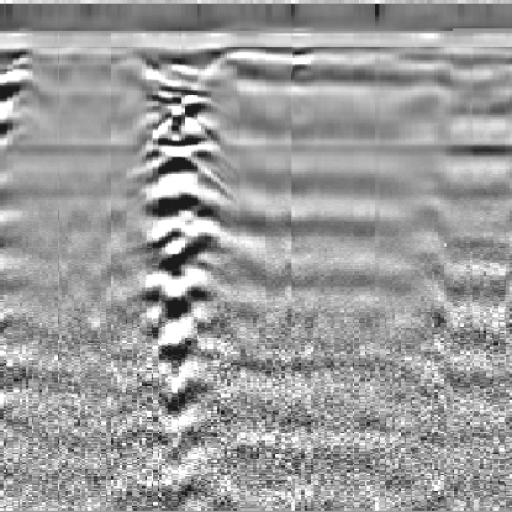metalic: (82, 62, 295, 426)
